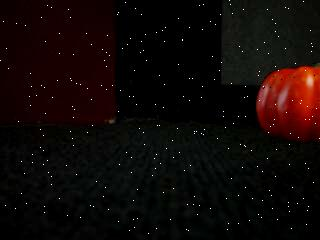Pumpkin: (256, 61, 320, 144)
